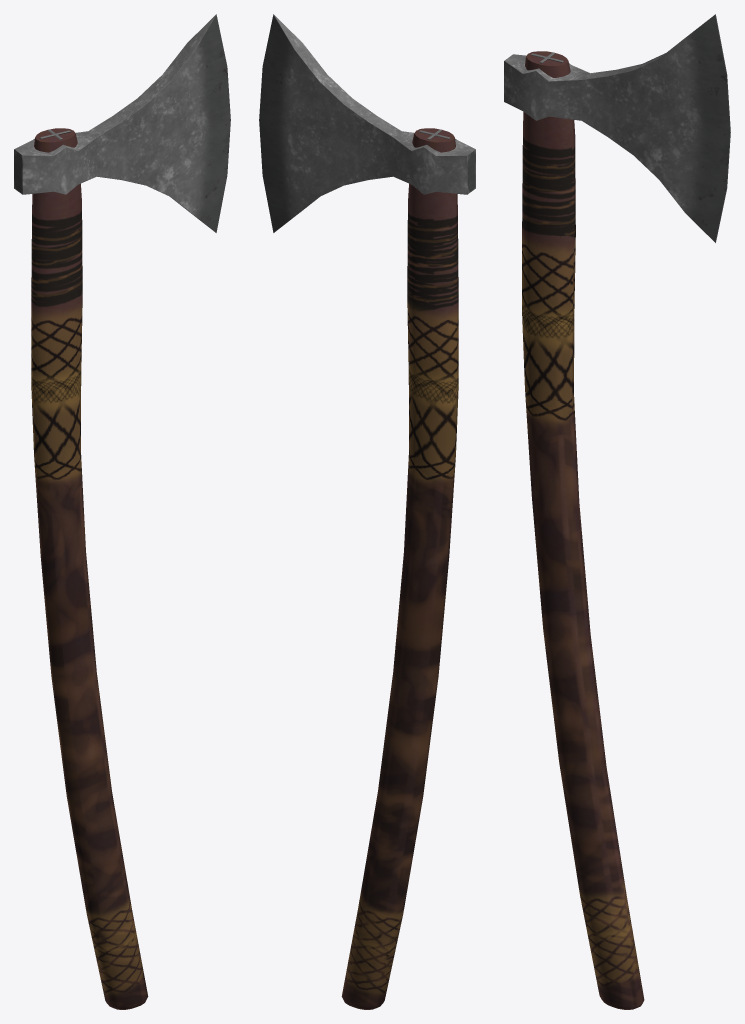
File: Axe.fbx
3 renders of one model, left to right at view 1: azimuth 30°, elevation 25°; view 2: azimuth 150°, elevation 25°; view 3: azimuth 330°, elevation 25°, orthographic. The views are drawn at different scales.
Parts seen in each view (by area): view 1: Axe_LOD0; view 2: Axe_LOD0; view 3: Axe_LOD0.
Boxes of the visible parts, bbox=[...] form: Axe_LOD0: bbox=[14, 14, 230, 1009]; Axe_LOD0: bbox=[259, 14, 475, 1009]; Axe_LOD0: bbox=[504, 14, 730, 1009].
Size of what is drawn, in the model's own units: 17.02 by 74.22 by 2.99.
